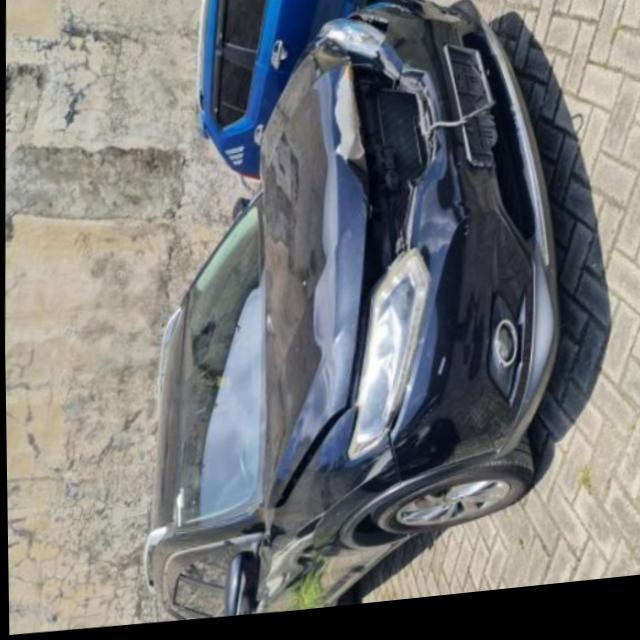dislocated part: (263, 397, 357, 530)
no part: (351, 61, 428, 300)
